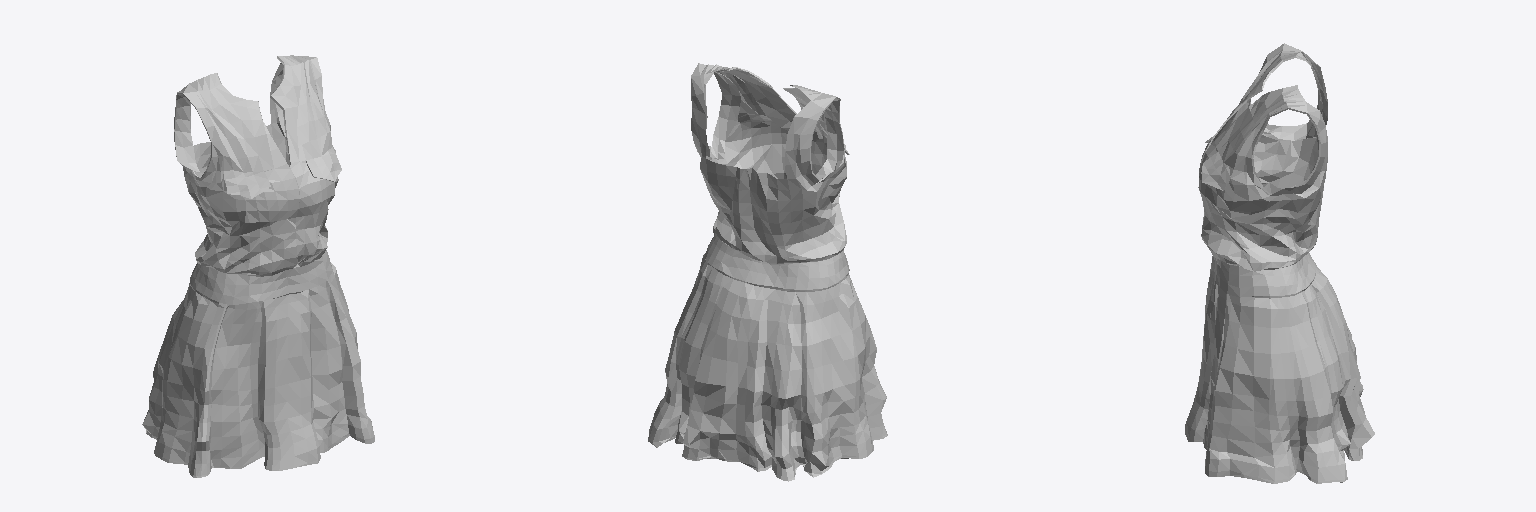
Rendered from dress_cut_out.obj.
3 renders of one model, left to right at view 1: azimuth 30°, elevation 25°; view 2: azimuth 150°, elevation 25°; view 3: azimuth 270°, elevation 25°, orthographic.
Parts seen in each view (by area): view 1: Dress_Cut_Out_Topsmesh.001; view 2: Dress_Cut_Out_Topsmesh.001; view 3: Dress_Cut_Out_Topsmesh.001.
Boxes of the visible parts, x1=… form: Dress_Cut_Out_Topsmesh.001: x1=142, y1=55, x2=374, y2=477; Dress_Cut_Out_Topsmesh.001: x1=648, y1=63, x2=887, y2=481; Dress_Cut_Out_Topsmesh.001: x1=1185, y1=43, x2=1374, y2=483.
Bounding box in the file's own units: 95.23 × 169 × 78.59.